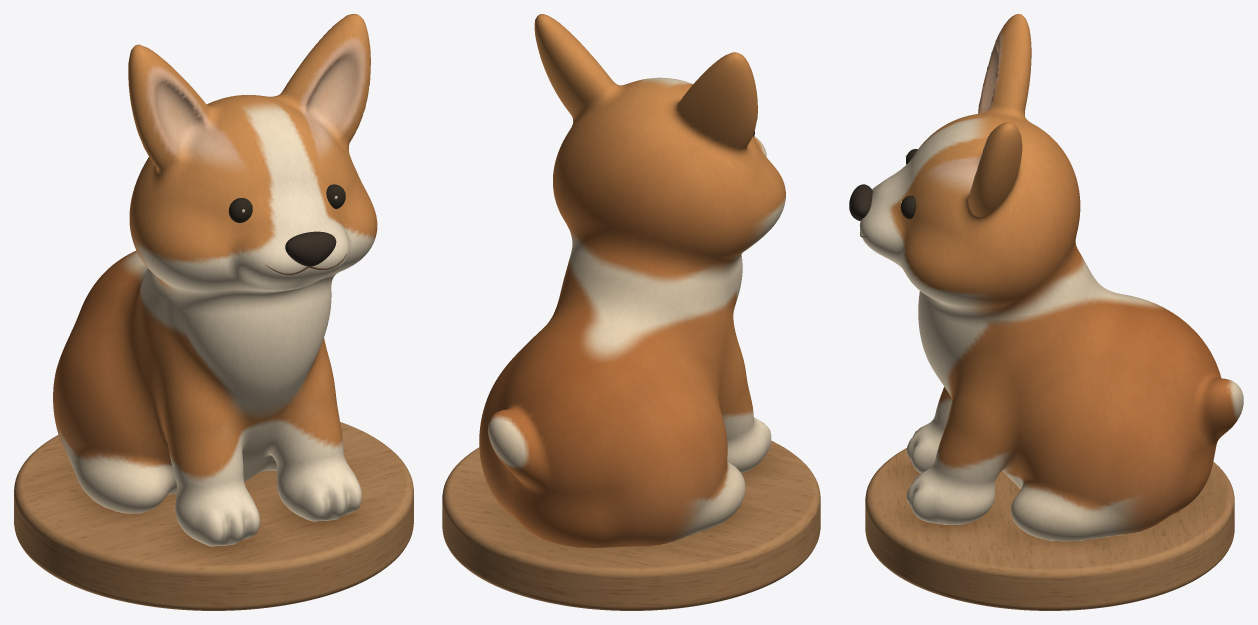
Rendered from studio-corgi.glb.
3 renders of one model, left to right at view 1: azimuth 30°, elevation 25°; view 2: azimuth 150°, elevation 25°; view 3: azimuth 270°, elevation 25°, orthographic. The views are drawn at different scales.
Parts seen in each view (by area): view 1: Hand-painted corgi, Turned oak plinth, Satin nose; view 2: Hand-painted corgi, Turned oak plinth; view 3: Hand-painted corgi, Turned oak plinth, Satin nose.
Boxes of the visible parts, box(x1,y1,x2,y2) form: Hand-painted corgi: box(53, 14, 377, 546); Turned oak plinth: box(14, 422, 413, 610); Satin nose: box(285, 231, 336, 266); Hand-painted corgi: box(479, 14, 785, 548); Turned oak plinth: box(442, 440, 820, 610); Hand-painted corgi: box(859, 14, 1243, 541); Turned oak plinth: box(865, 448, 1234, 610); Satin nose: box(849, 184, 872, 220).
Bounding box in the file's own units: 0.0771 × 0.1103 × 0.0823.
6 materials, 2 textured.
